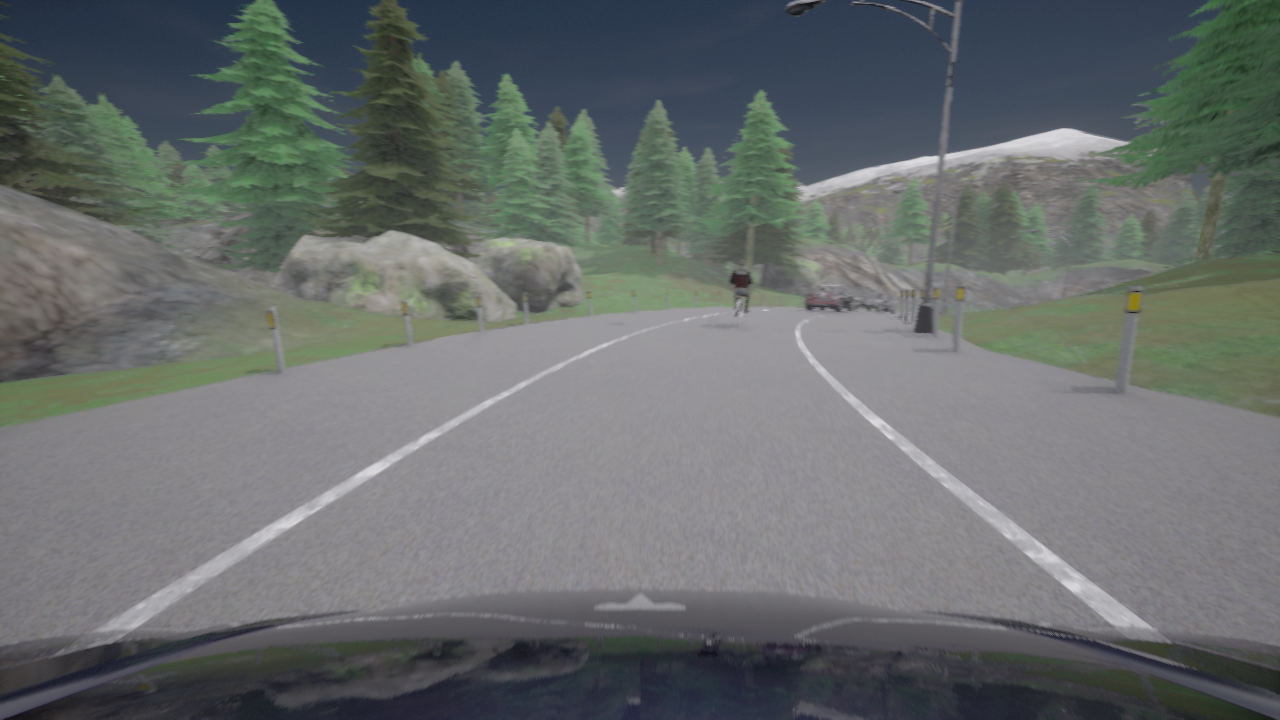cyclist: (0, 588, 1279, 719), (805, 284, 855, 311), (854, 292, 897, 312), (736, 296, 747, 326), (930, 300, 934, 312)
